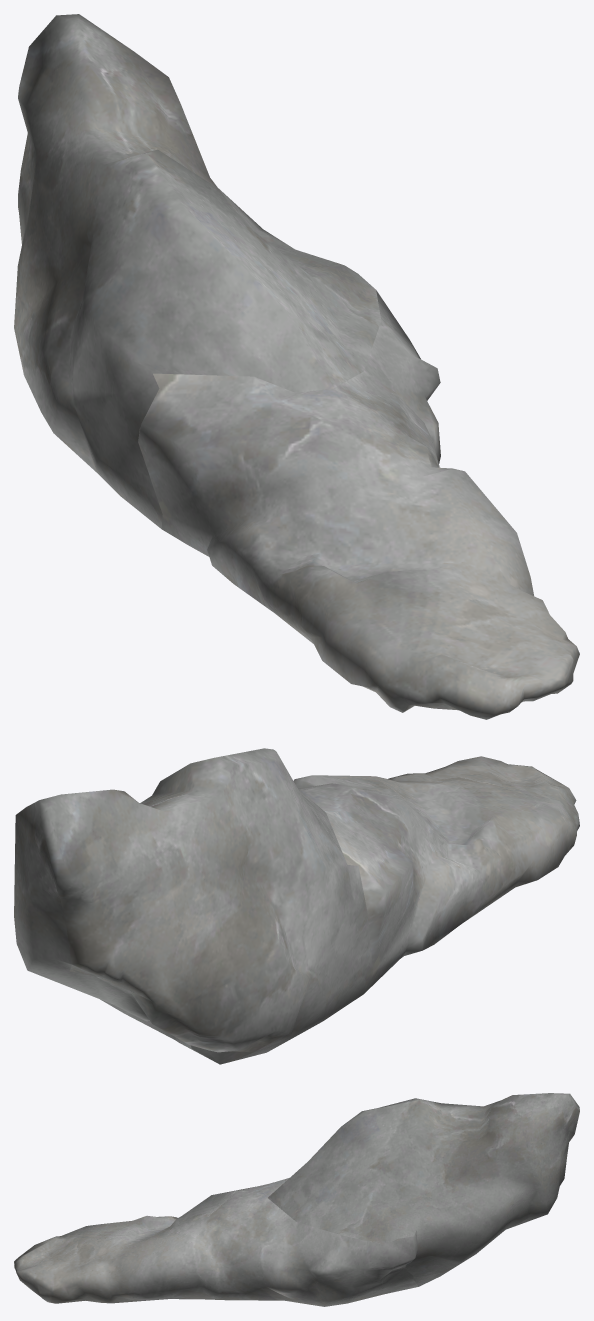
File: SM_Com_Roc_31AS.fbx
The picture shows the model from 3 angles, top to bottom: view 1: azimuth 30°, elevation 25°; view 2: azimuth 150°, elevation 25°; view 3: azimuth 270°, elevation 25°; orthographic projection. The views are drawn at different scales.
Visible parts, largest first — view 1: SM_Com_Roc_31AS.mo; view 2: SM_Com_Roc_31AS.mo; view 3: SM_Com_Roc_31AS.mo.
Part boxes in pixels (x1,y1,x2,y2): SM_Com_Roc_31AS.mo: (14,14,579,719); SM_Com_Roc_31AS.mo: (14,748,579,1064); SM_Com_Roc_31AS.mo: (14,1093,579,1306).
Bounding box in the file's own units: 3.36 × 3.75 × 9.64.
